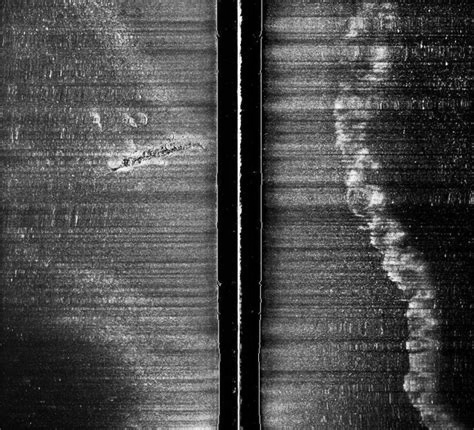ship: (111, 132, 208, 173)
